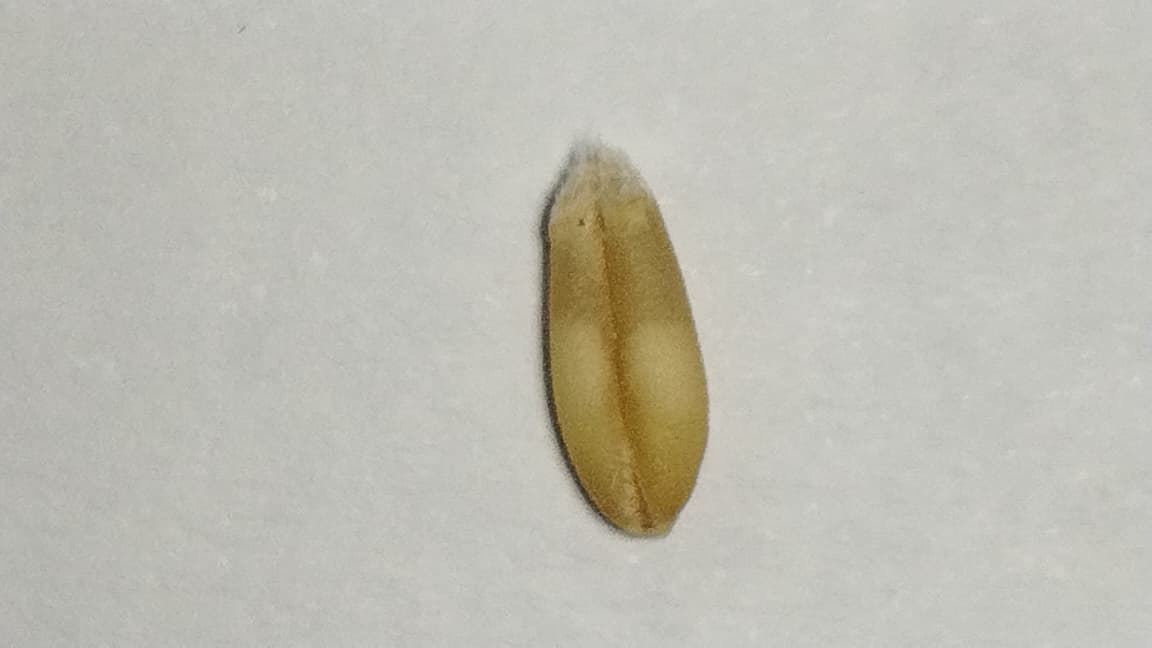healthy: (543, 140, 708, 535)
